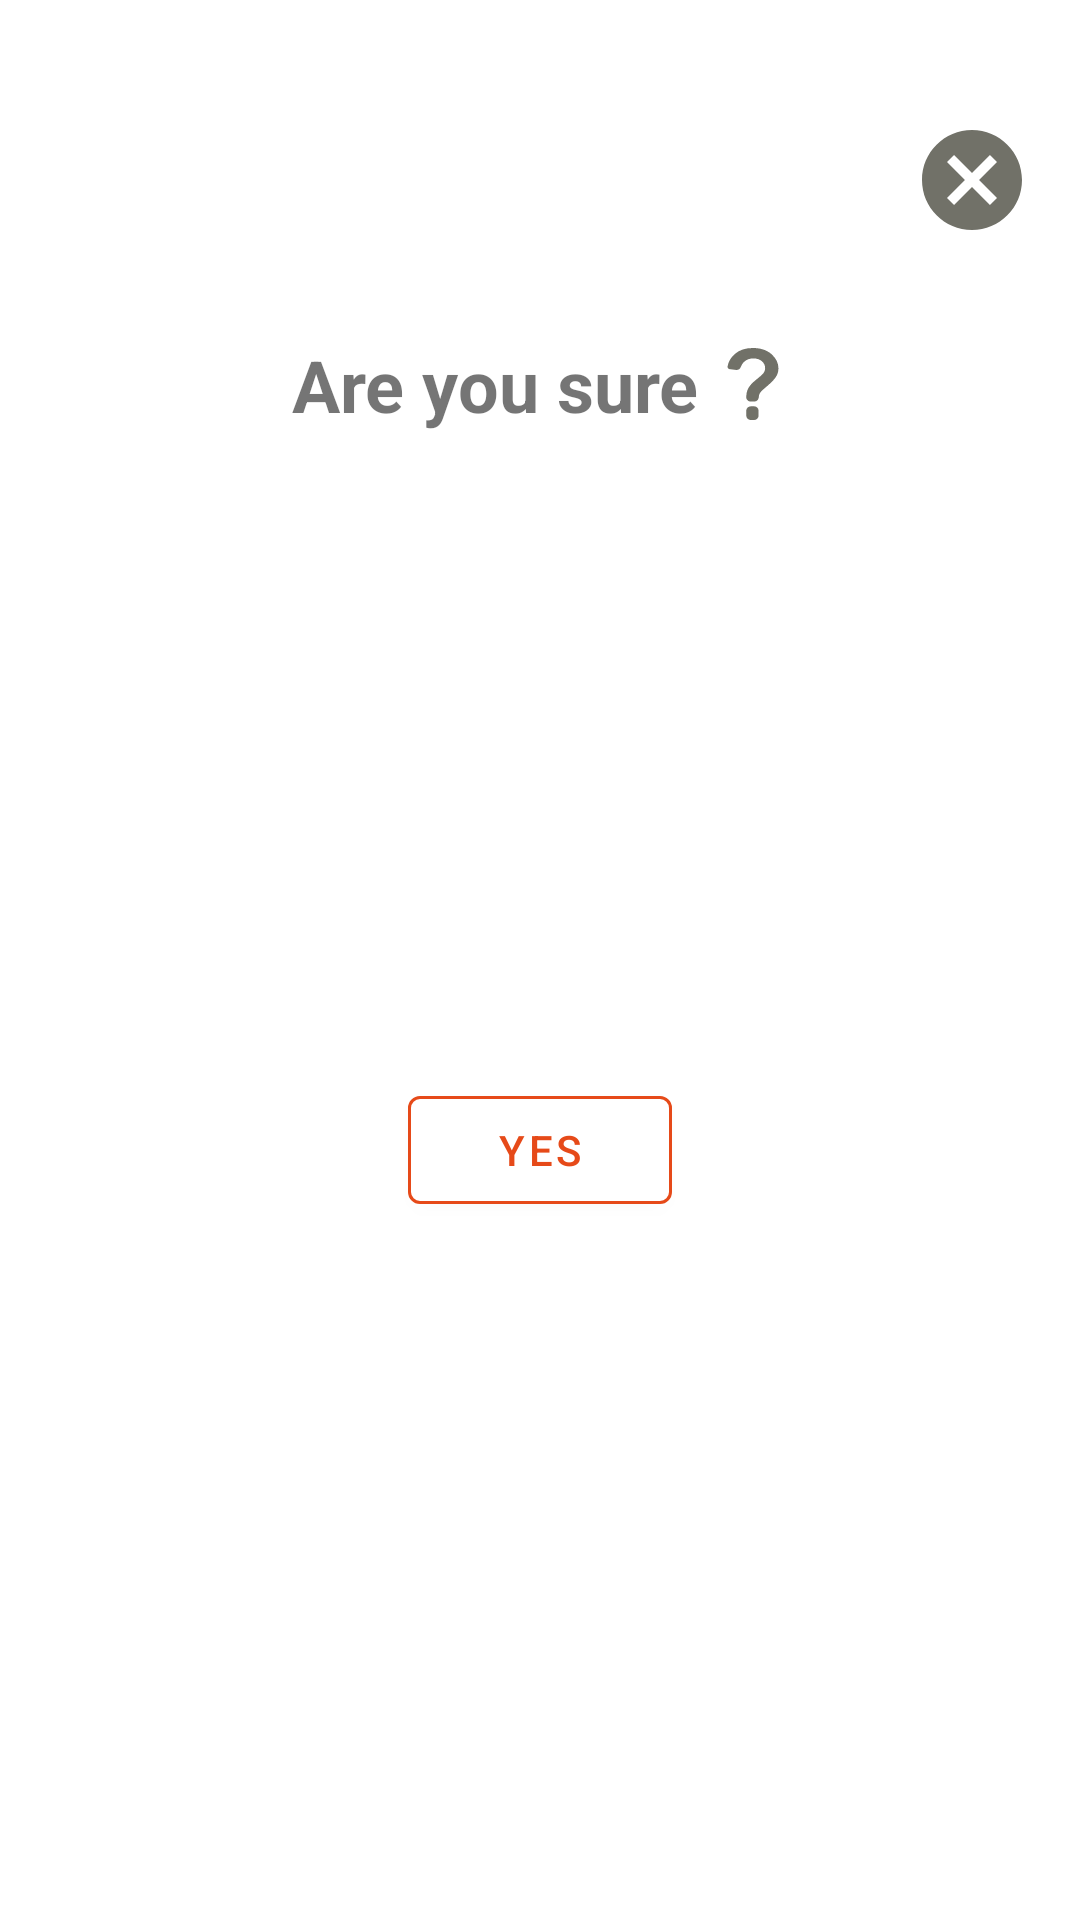

Icons on this 1080*1920 Android screen, each with its box as (x1, y1, x2, y2):
cancel: (922, 130, 1022, 230)
